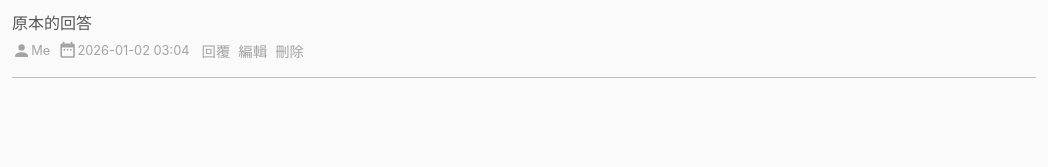
Test: AnswerCard › 編輯 › 內容未變更時直接關閉，不呼叫 API
Click the text "編輯".
click(253, 52)  # box [238,43,267,60]
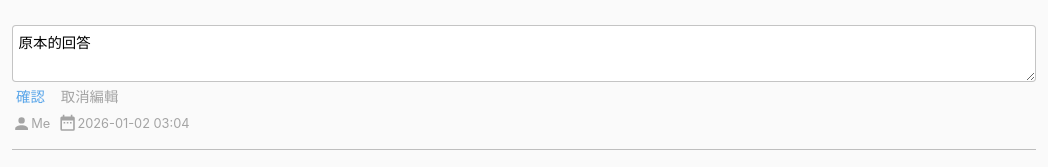
Click the text "確認".
click(30, 97)  # box [16,88,45,105]
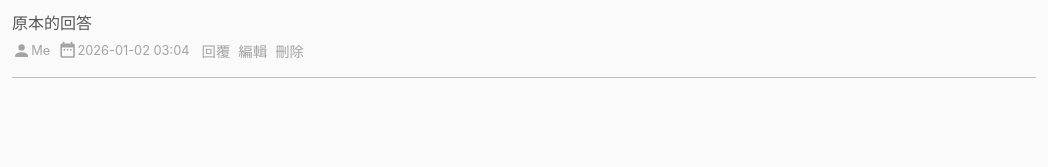
Now the text box labelled "編輯回覆" is gone
